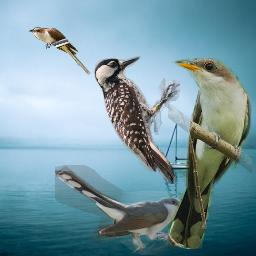Cuckoo: (168, 58, 252, 249), (55, 165, 196, 255), (28, 27, 91, 75)
Woodpecker: (94, 56, 180, 184)
